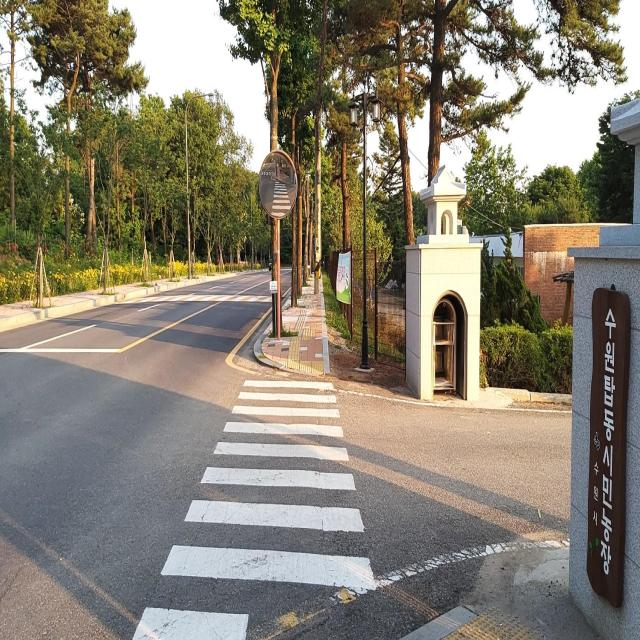횡단보도: (129, 375, 378, 640)
